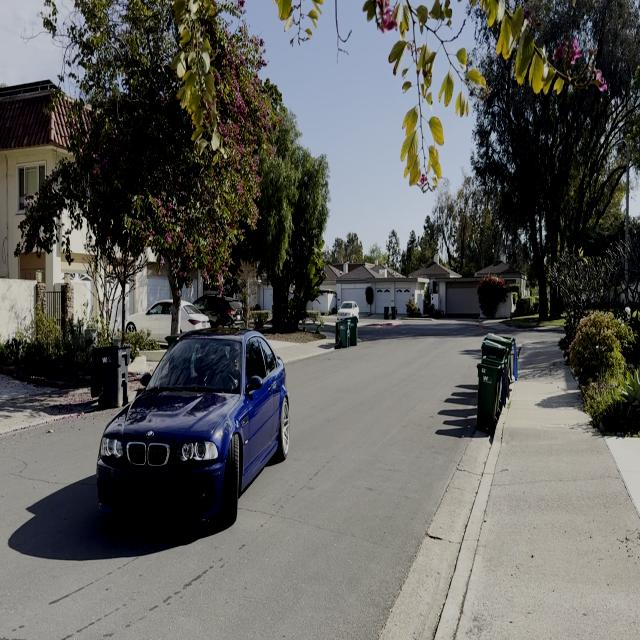Carbeetle: (94, 324, 297, 541)
